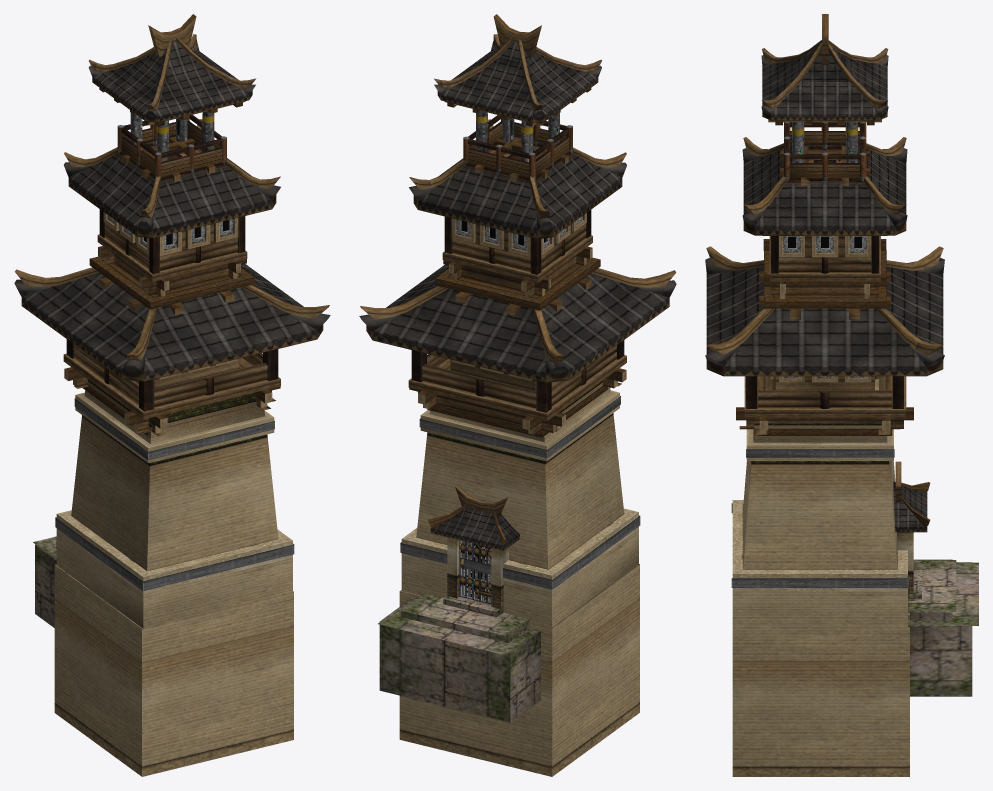
File: han_tower_great.glb
3 renders of one model, left to right at view 1: azimuth 30°, elevation 25°; view 2: azimuth 150°, elevation 25°; view 3: azimuth 270°, elevation 25°, orthographic.
Visible parts, largest first — view 1: han_tower_great_part0; view 2: han_tower_great_part0; view 3: han_tower_great_part0.
Part boxes in pixels (x1,y1,x2,y2): han_tower_great_part0: (14, 14, 330, 776); han_tower_great_part0: (359, 14, 676, 776); han_tower_great_part0: (705, 14, 978, 776).
Bounding box in the file's own units: 2.8 × 9.21 × 3.2.
1 material, 1 textured.
